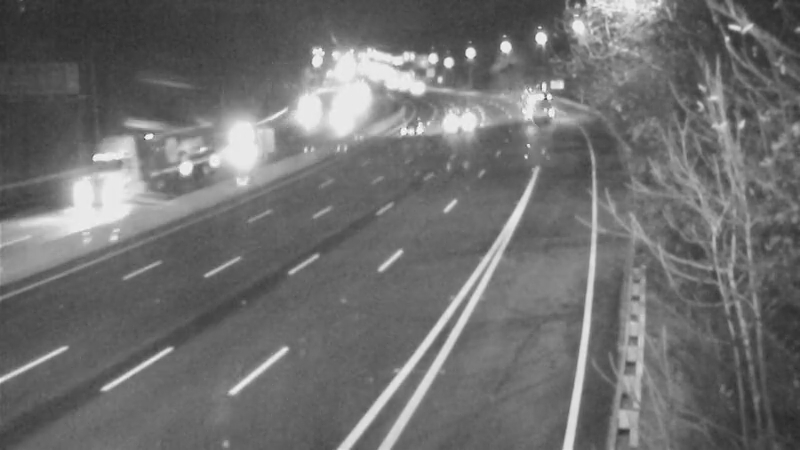vehicle: (65, 146, 145, 226), (503, 76, 553, 126), (431, 101, 481, 151), (395, 104, 445, 154), (226, 118, 276, 168), (319, 95, 369, 145), (285, 80, 335, 130)
